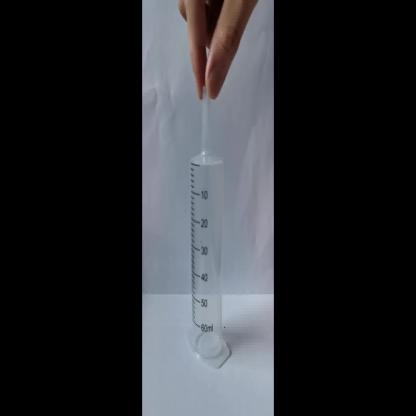dry: (186, 100, 233, 370)
